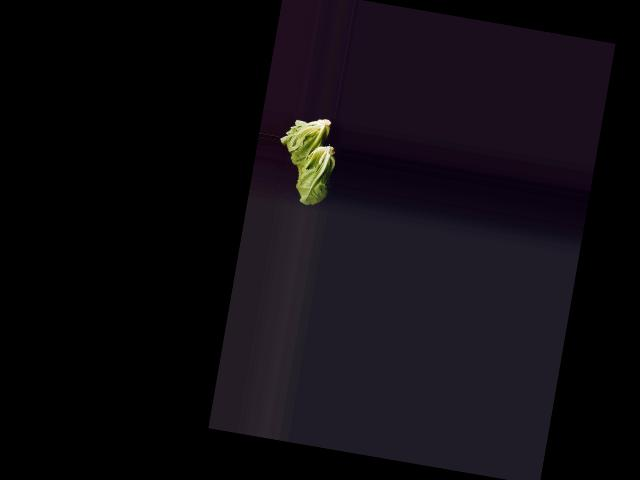lettuce: (275, 112, 338, 181)
